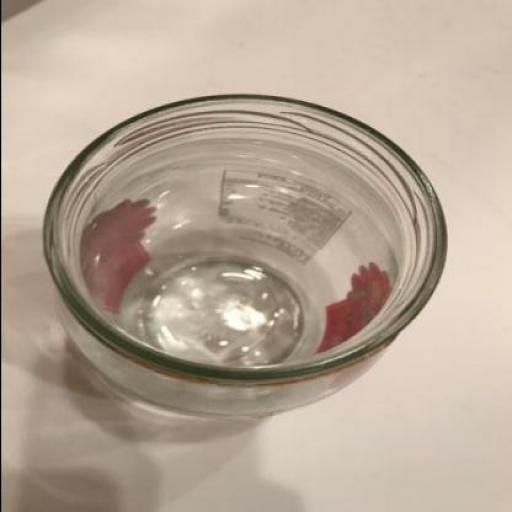glass: (46, 94, 448, 418)
